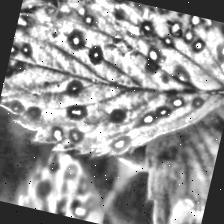Leaf Spot: (0, 0, 224, 187), (3, 138, 124, 224)
